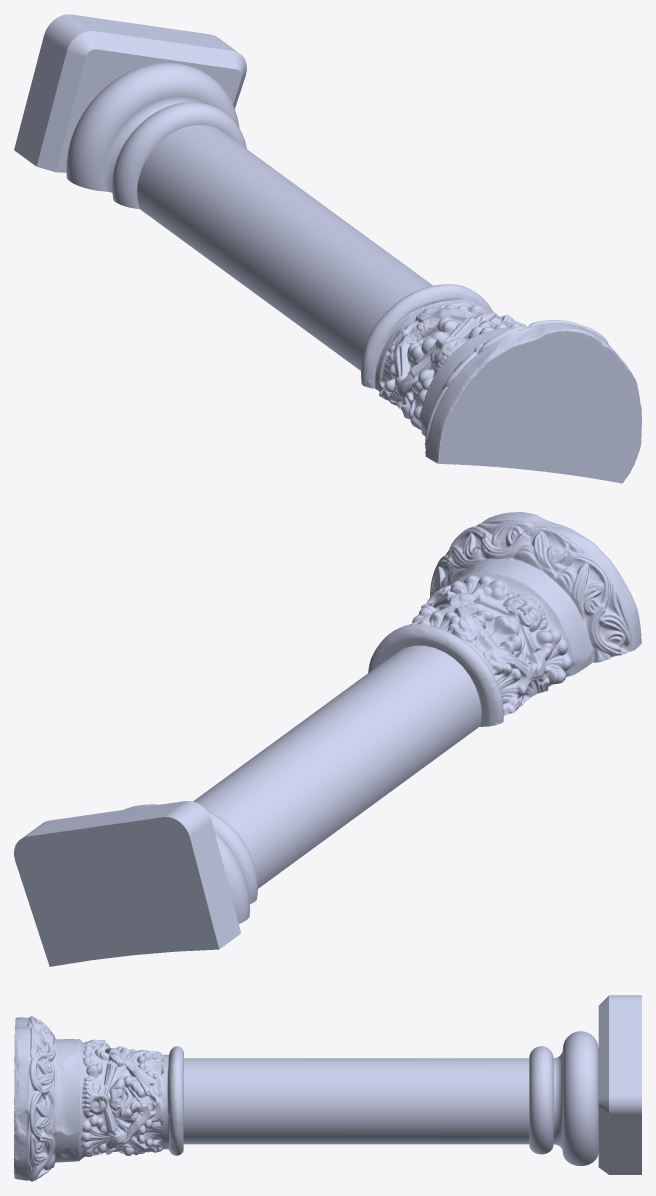
File: chapiteau_10_low_final.glb
3 renders of one model, top to bottom at view 1: azimuth 30°, elevation 25°; view 2: azimuth 150°, elevation 25°; view 3: azimuth 270°, elevation 25°, orthographic. The views are drawn at different scales.
Visible parts, largest first — view 1: final; view 2: final; view 3: final.
Boxes of the visible parts, x1,y1,x2,y2 form: final: [14, 14, 641, 483]; final: [14, 512, 641, 966]; final: [14, 995, 641, 1181].
Bounding box in the file's own units: 1.06 × 0.8704 × 3.62.
